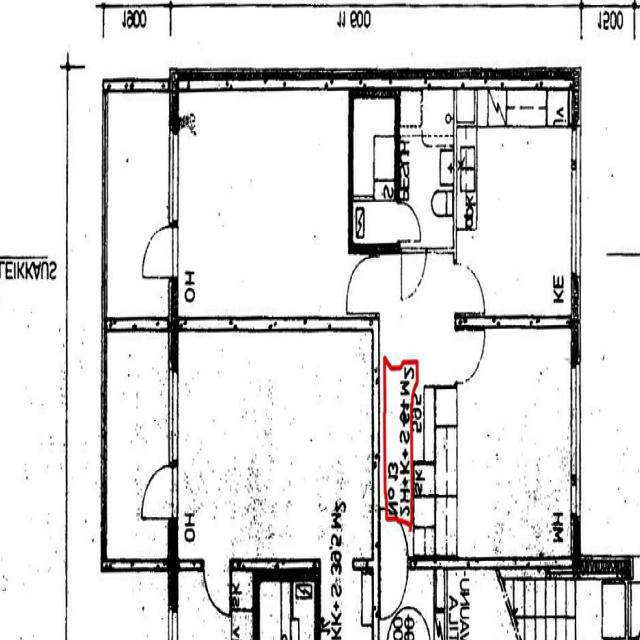door: (142, 227, 179, 276), (346, 257, 379, 311), (380, 556, 408, 616), (380, 506, 408, 566), (453, 330, 485, 380), (453, 262, 484, 312), (402, 247, 426, 296), (394, 202, 420, 240)
